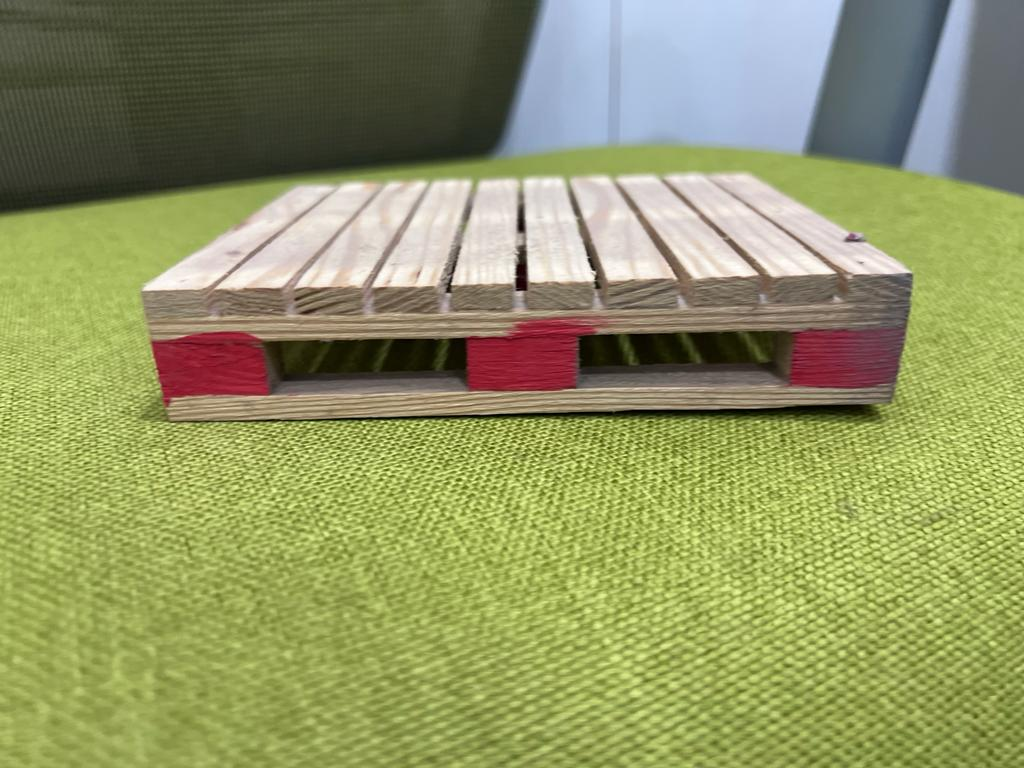pallet: (123, 168, 929, 415)
